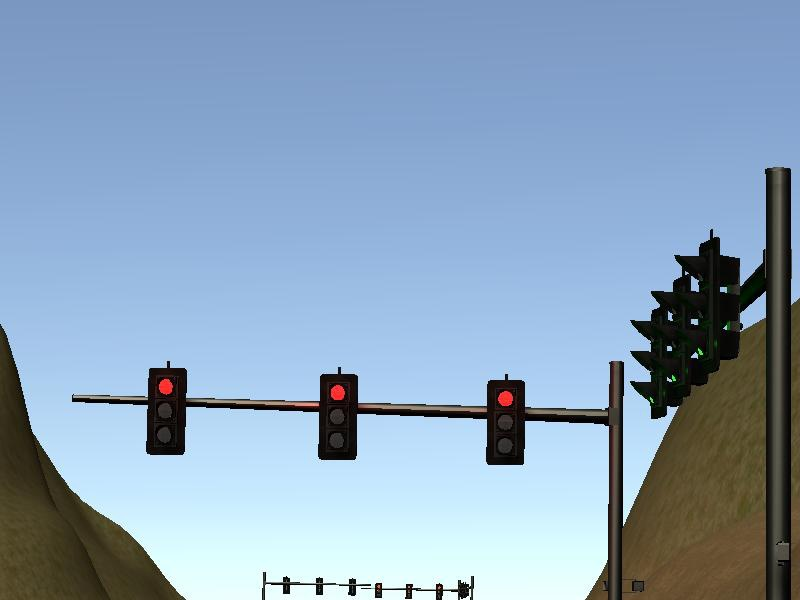Red: (483, 378, 525, 468), (318, 370, 360, 460), (145, 366, 187, 456)
